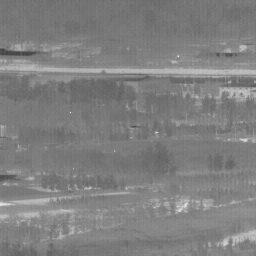aircraft: (70, 112, 72, 114)
